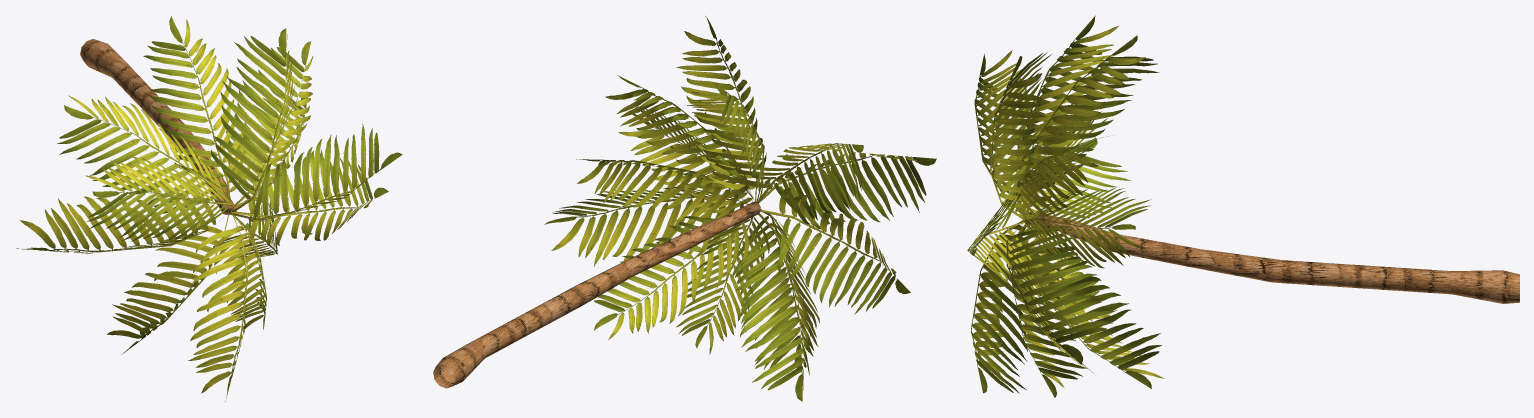
File: palm trees.obj
The picture shows the model from 3 angles, left to right: view 1: azimuth 30°, elevation 25°; view 2: azimuth 150°, elevation 25°; view 3: azimuth 270°, elevation 25°; orthographic projection. The views are drawn at different scales.
Visible parts, largest first — view 1: Plane.016_Plane.283, Cylinder.002_Cylinder.037; view 2: Plane.016_Plane.283, Cylinder.002_Cylinder.037; view 3: Plane.016_Plane.283, Cylinder.002_Cylinder.037.
Part boxes in pixels (x1,y1,x2,y2): Plane.016_Plane.283: [16, 16, 402, 401]; Cylinder.002_Cylinder.037: [80, 39, 236, 214]; Plane.016_Plane.283: [544, 16, 936, 401]; Cylinder.002_Cylinder.037: [433, 201, 760, 388]; Plane.016_Plane.283: [967, 15, 1163, 397]; Cylinder.002_Cylinder.037: [1025, 212, 1519, 303].
Bounding box in the file's own units: 10.52 × 9.45 × 12.33.
